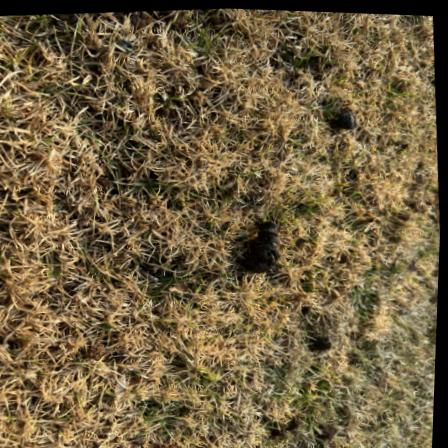dog-poop: (242, 210, 306, 280), (327, 100, 364, 133)
